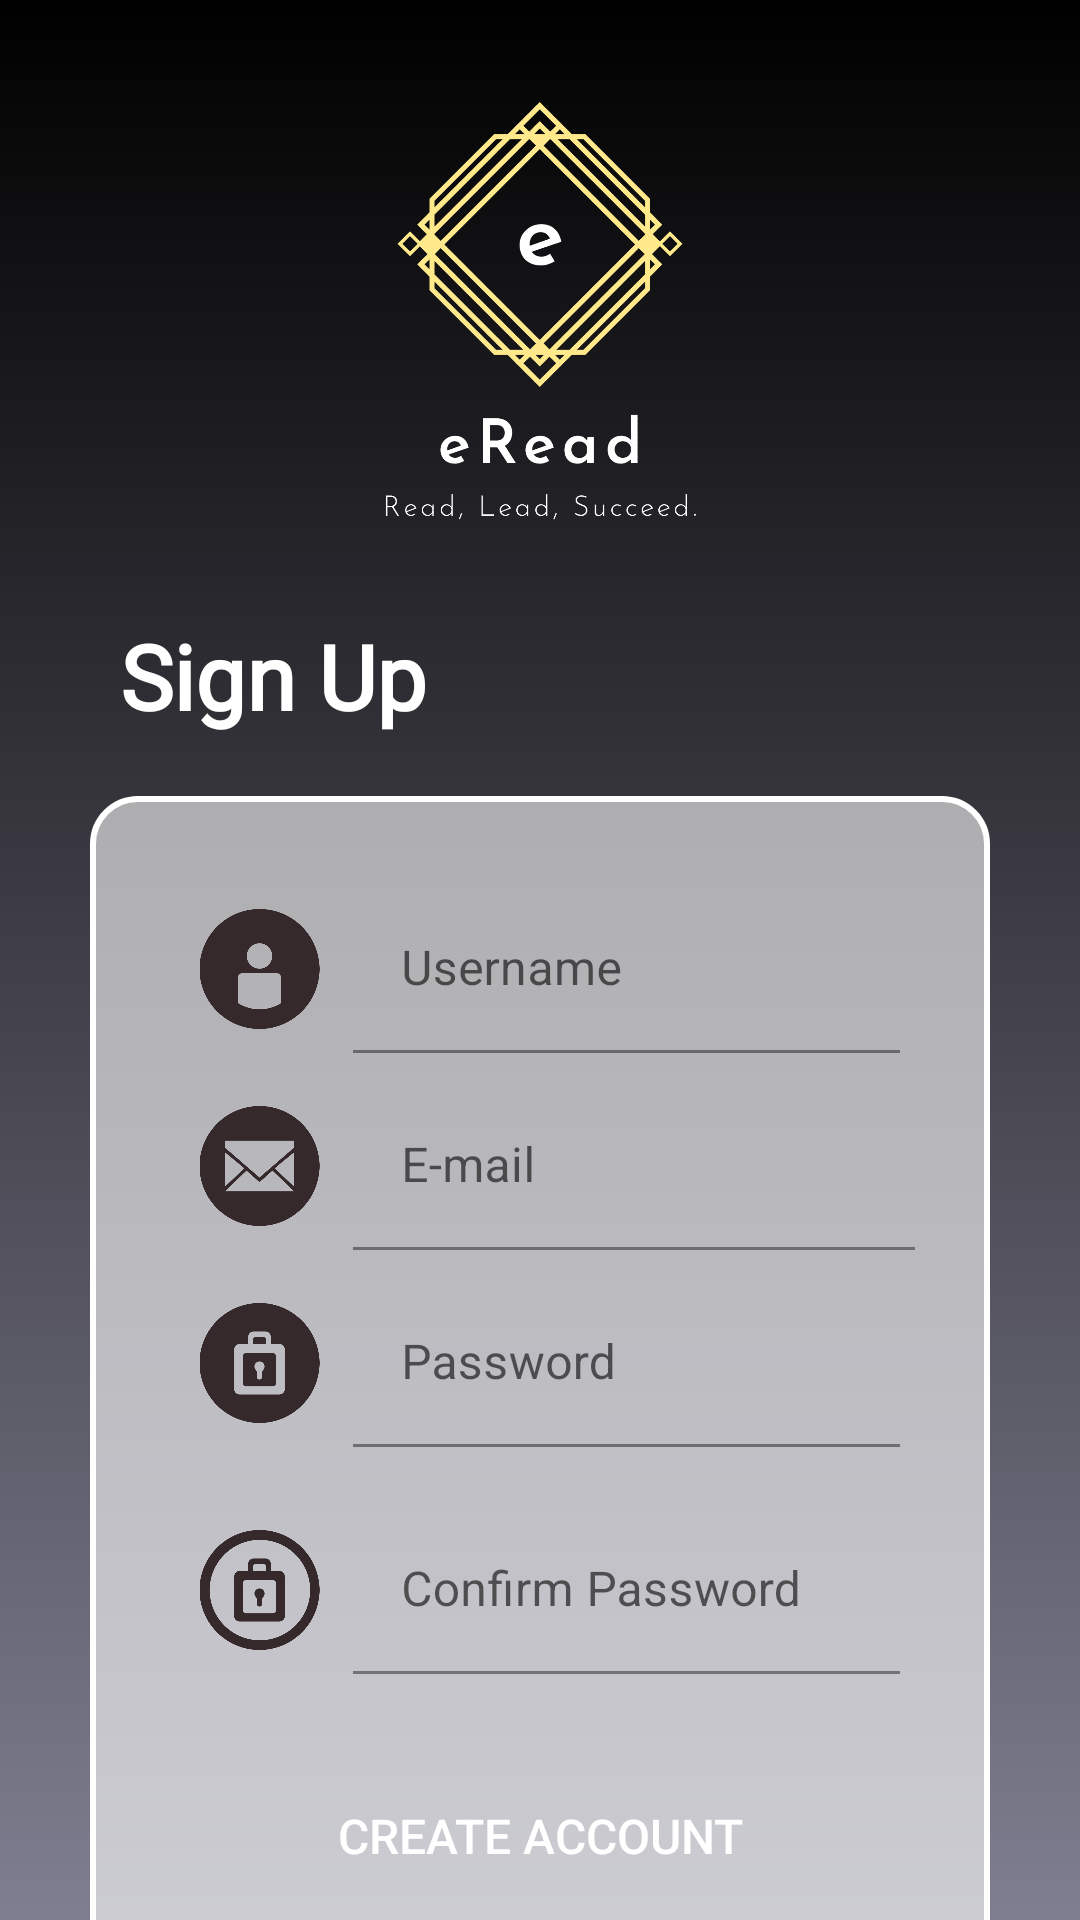

Icons on this 1080px x 1920px Android screen, each with the point to tap as (x=x, y=y):
re pw: (x=260, y=1590)
